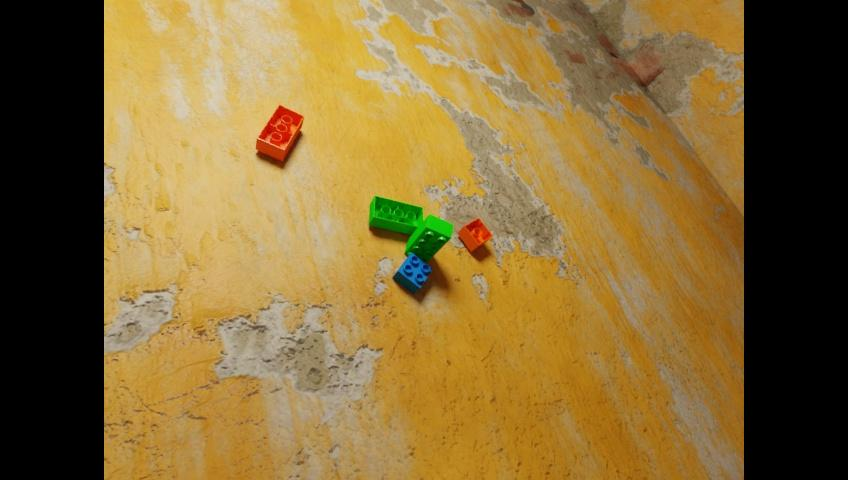2x2_blue: (392, 252, 431, 293)
2x2_orange: (457, 217, 491, 251)
4x2_green: (404, 213, 452, 262), (368, 194, 422, 234)
4x2_orange: (255, 104, 303, 160)
